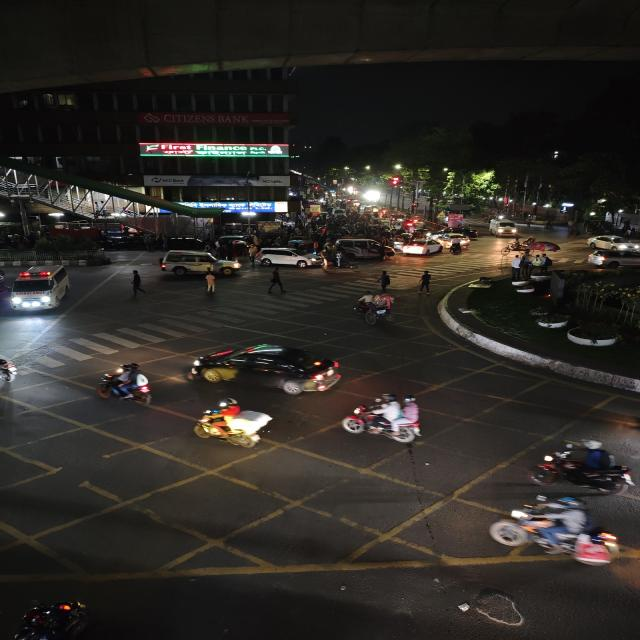car: (187, 339, 349, 397), (7, 265, 76, 317), (154, 244, 244, 278), (585, 232, 640, 258), (256, 245, 314, 269), (334, 238, 393, 260), (392, 232, 442, 256), (490, 220, 521, 237)
motorcycle: (477, 487, 639, 583), (340, 392, 431, 453), (530, 446, 637, 493), (190, 399, 280, 449), (91, 360, 159, 408), (351, 290, 404, 328), (446, 235, 468, 256), (586, 249, 610, 267)
pedestrian: (121, 269, 153, 297), (265, 268, 292, 296), (198, 269, 221, 298), (417, 270, 435, 296), (376, 270, 394, 292)
rickshaw: (495, 238, 539, 257)
